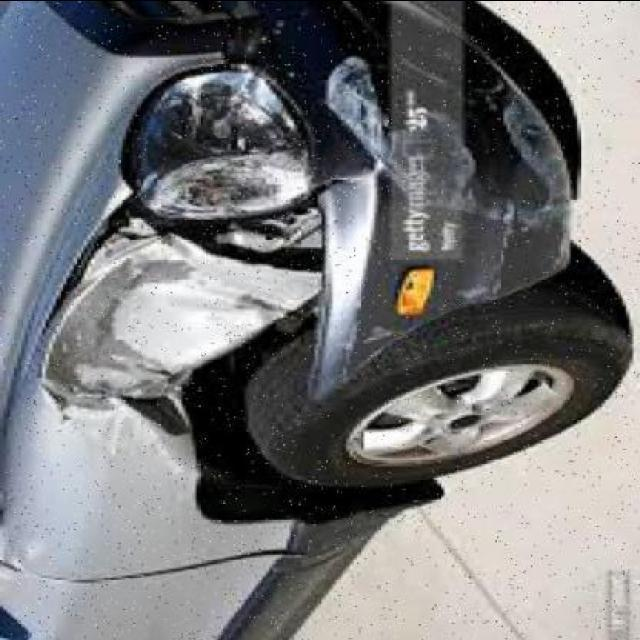Headlight-Damage: (119, 57, 319, 234)
fender-dent: (14, 239, 326, 563)
front-bumper-dent: (314, 7, 570, 391)
